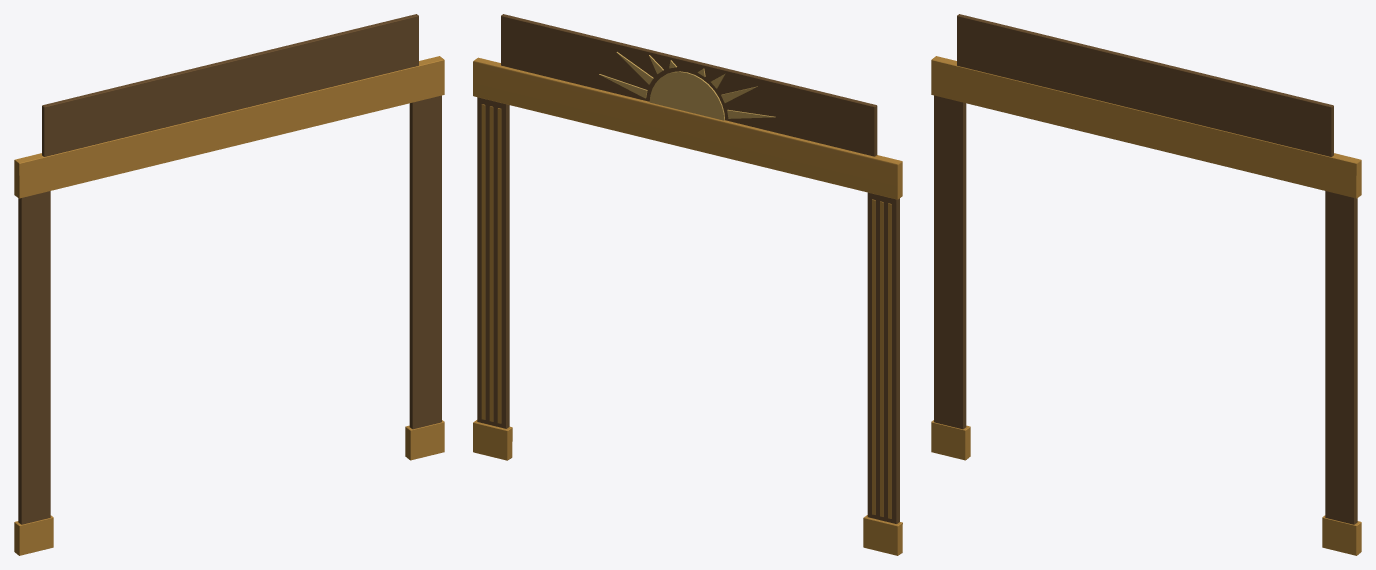
Rendered from prop_of_vault_portal.glb.
The picture shows the model from 3 angles, left to right: view 1: azimuth 30°, elevation 25°; view 2: azimuth 150°, elevation 25°; view 3: azimuth 330°, elevation 25°; orthographic projection.
Visible parts, largest first — view 1: Portal; view 2: Portal; view 3: Portal.
Part boxes in pixels (bbox=[...]): Portal: bbox=[14, 14, 444, 555]; Portal: bbox=[473, 14, 902, 555]; Portal: bbox=[931, 14, 1361, 555].
Size of the model in its own units: 3.18 by 3.16 by 0.0682.
